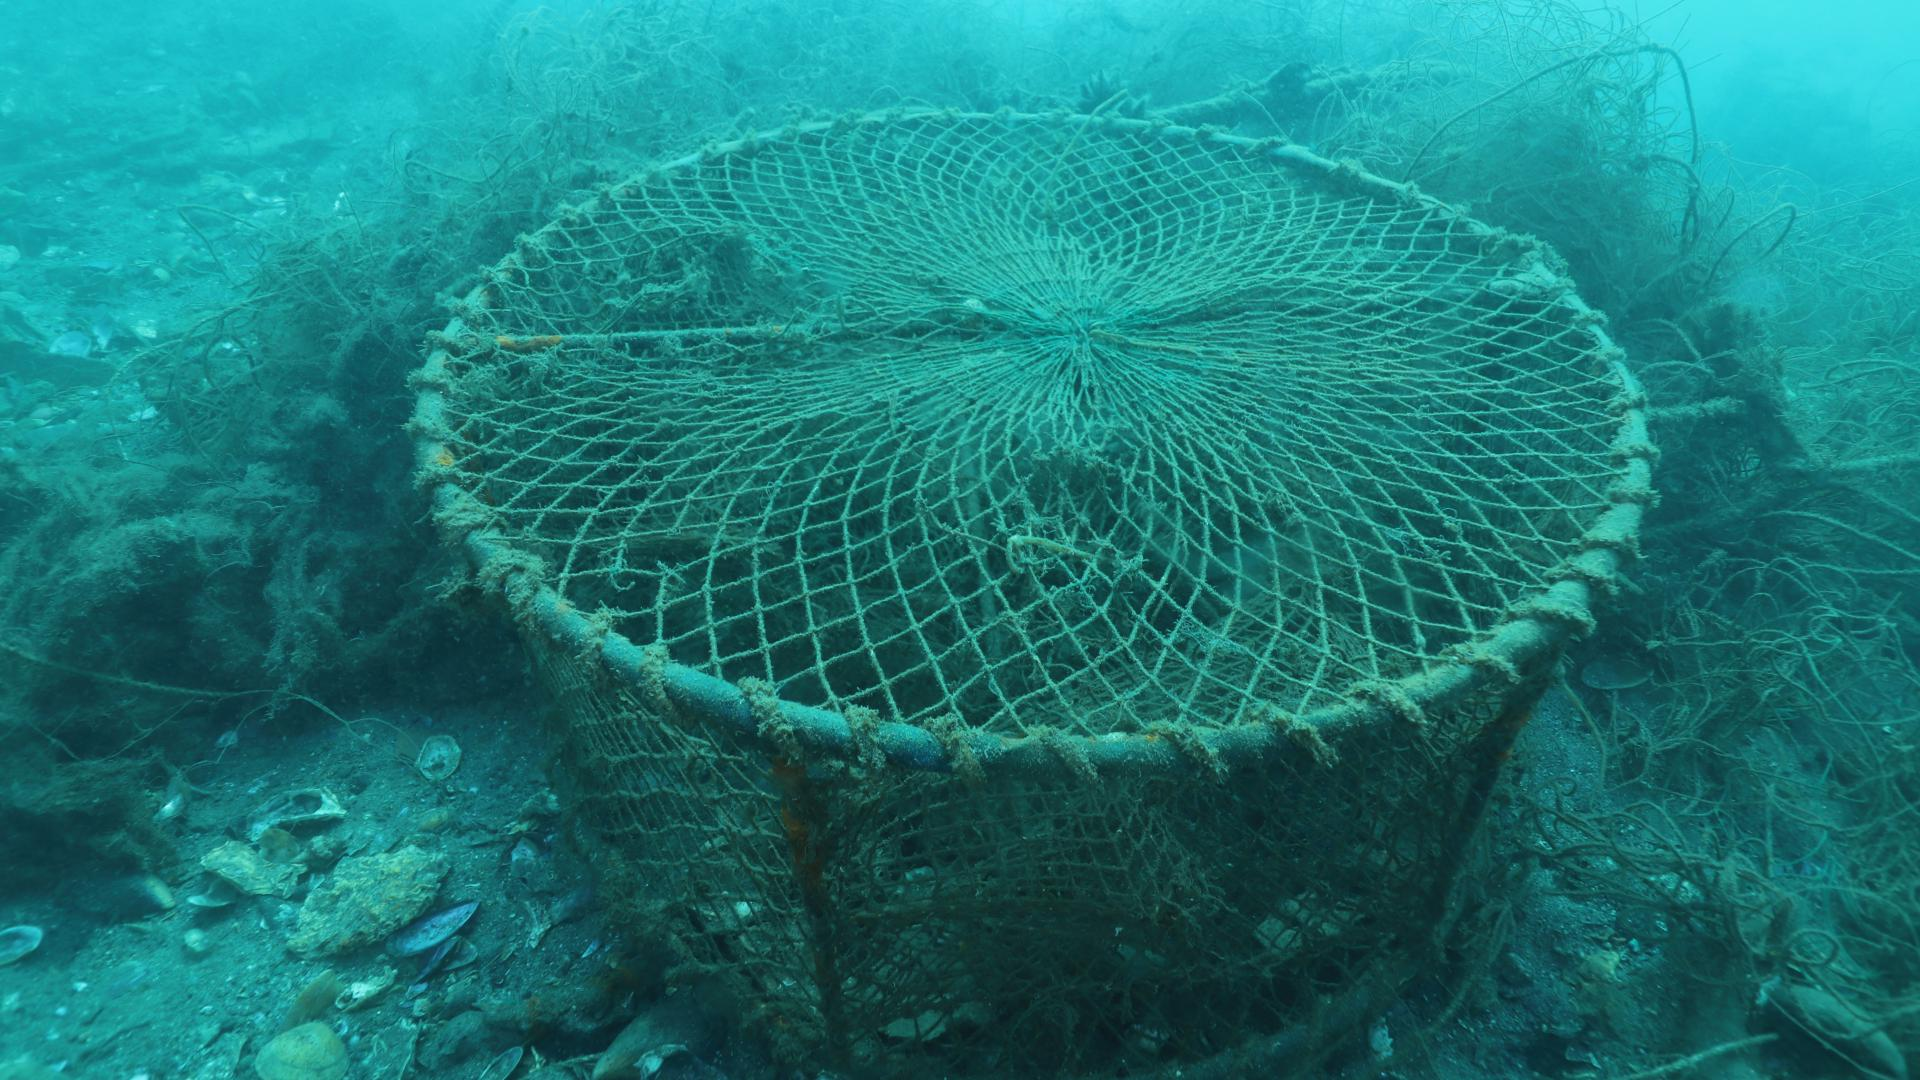circular fish trap: (410, 105, 1656, 1080)
